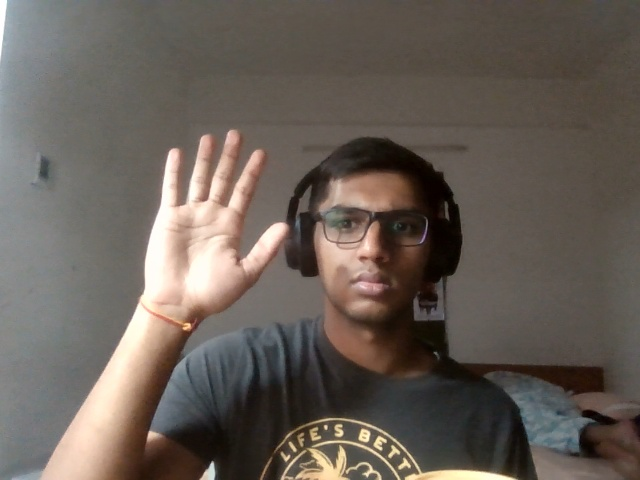hello: (134, 128, 296, 335)
